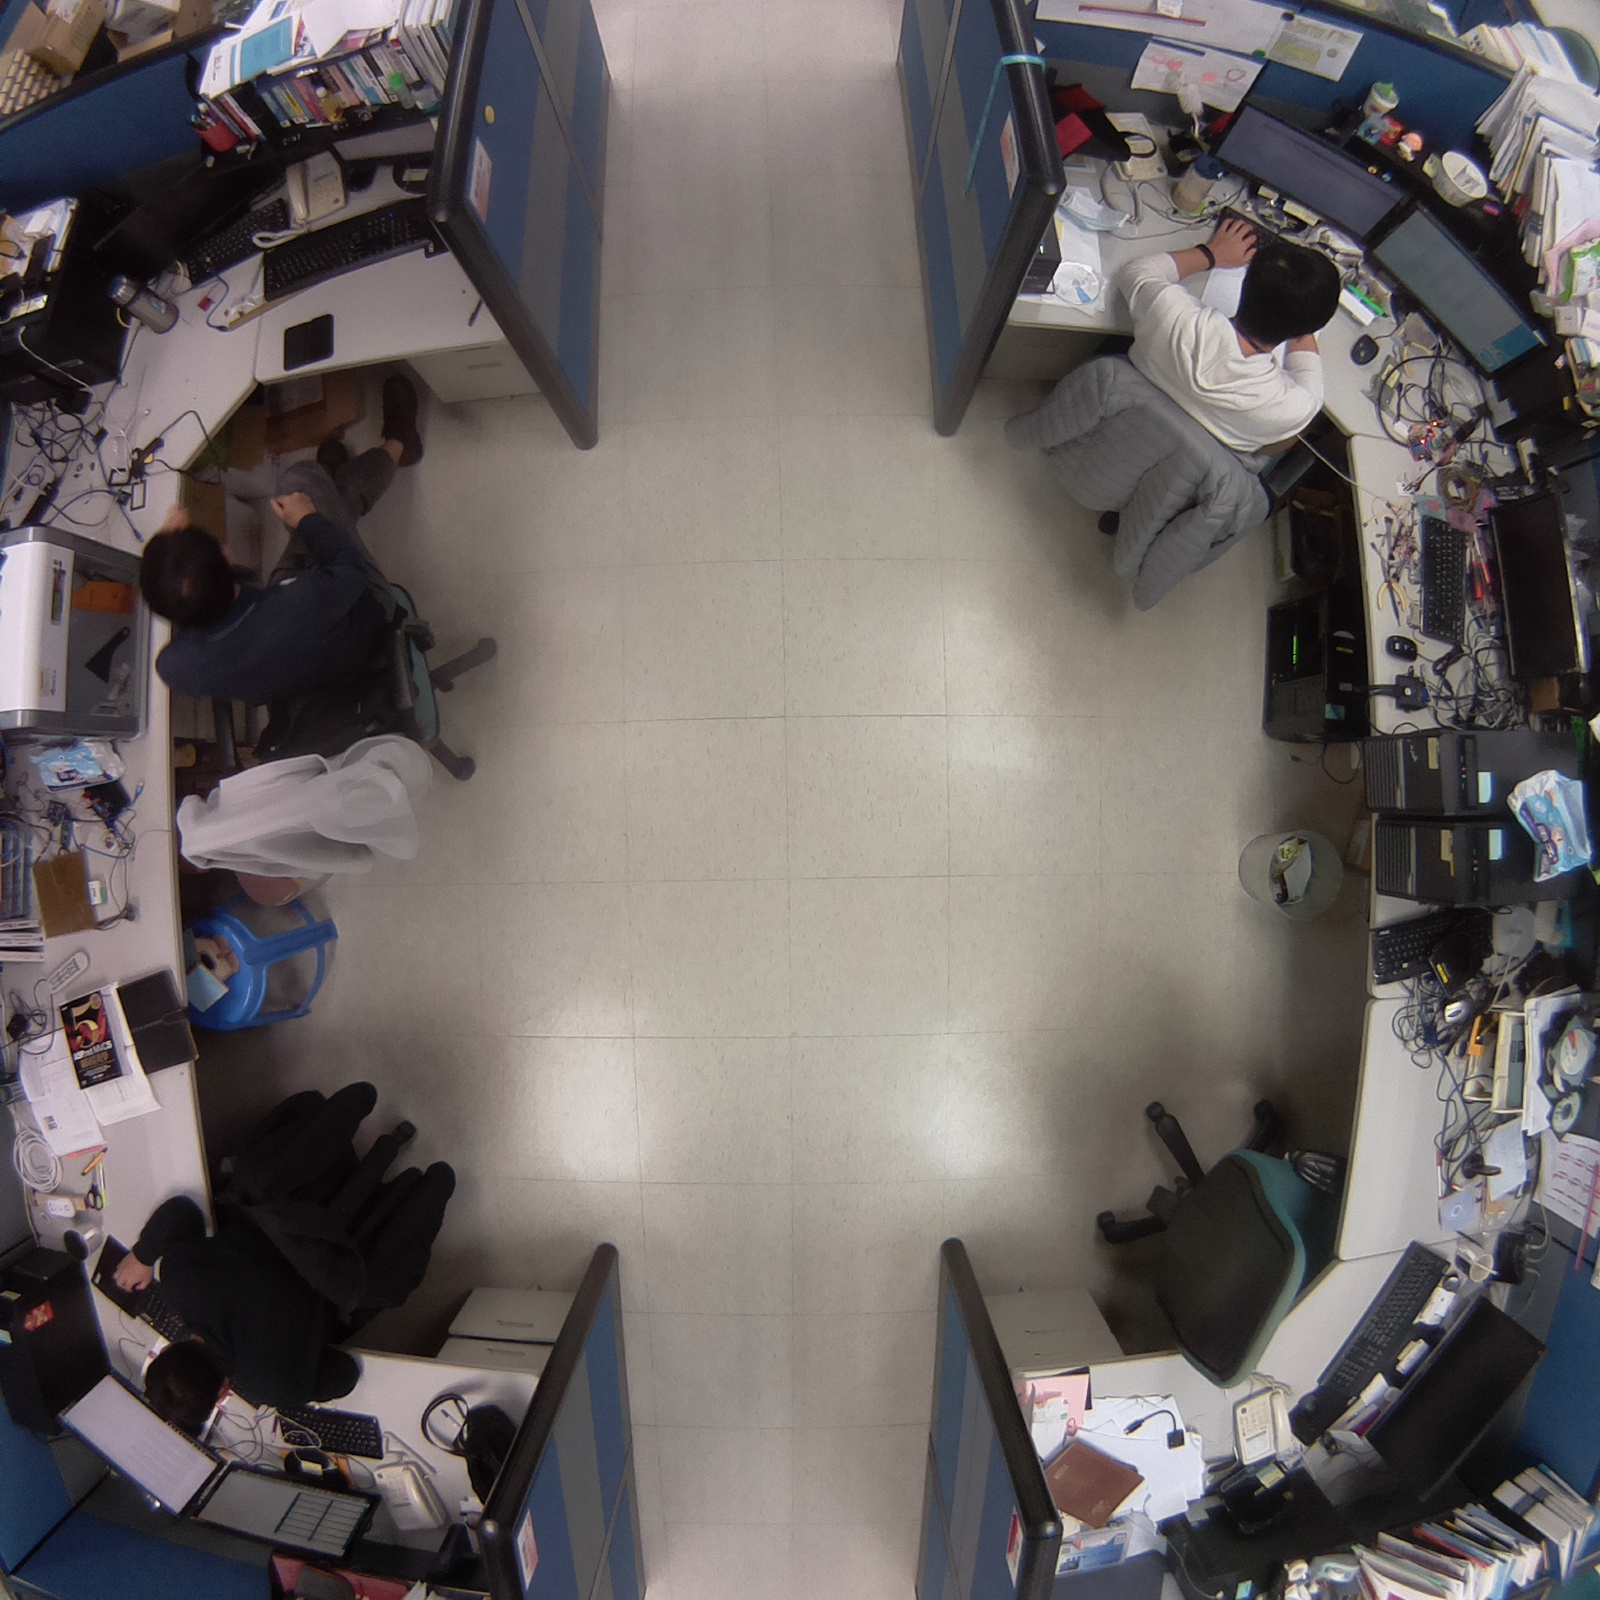chair: (1065, 1088, 1353, 1401)
head: (1232, 236, 1346, 359), (127, 517, 242, 636), (138, 1327, 232, 1448)
sitting: (981, 214, 1444, 637), (126, 457, 519, 899), (101, 1060, 473, 1444)
